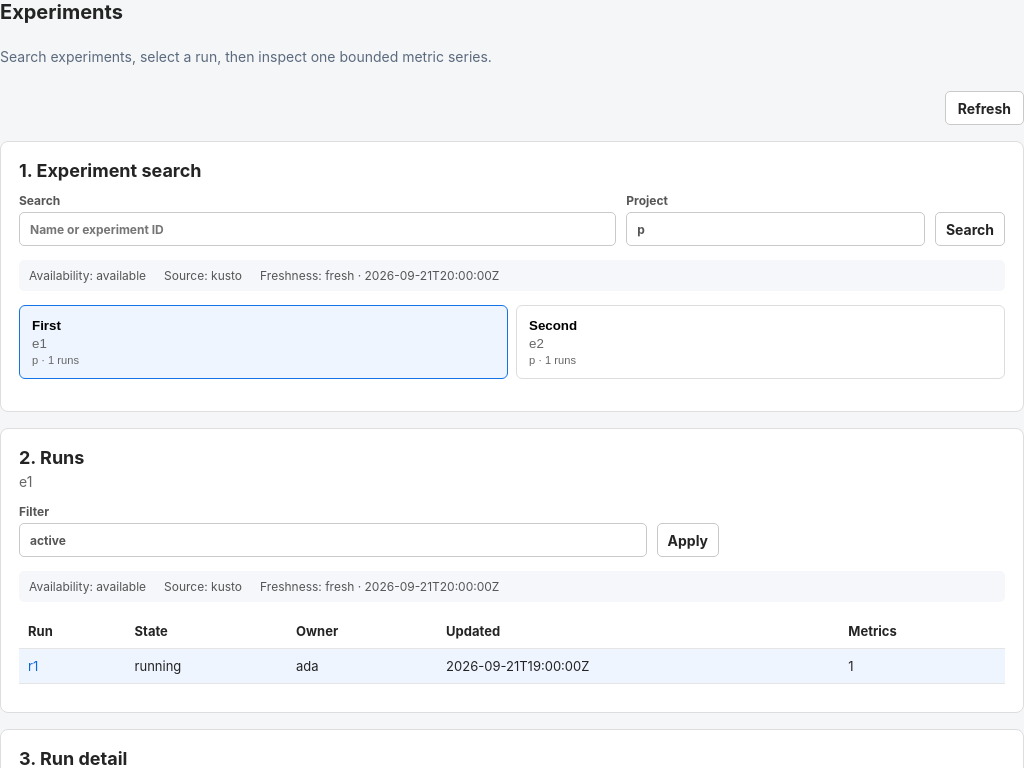
Test: typed experiment dashboard › honors deep-linked filters and bounded series controls
Step 1. Click the button "Second e2 p · 1 runs" → [553, 326], box x1=516 y1=305 x2=1005 y2=379
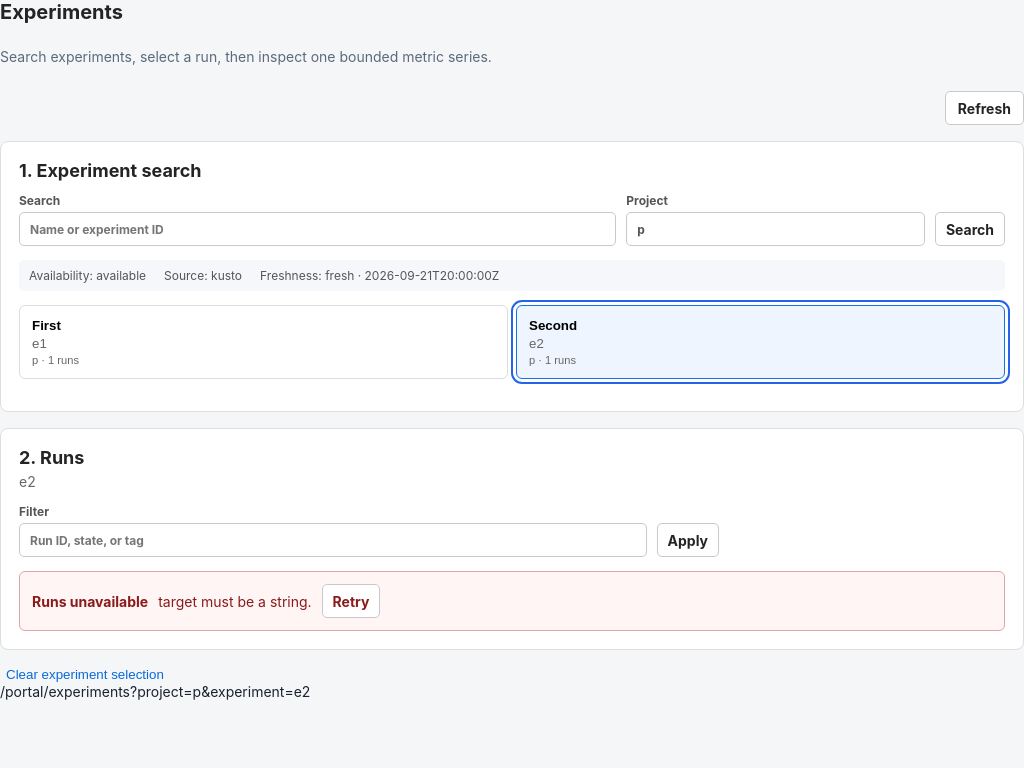
Expected: the text named "location" shows "experiment=e2", x1=0 y1=683 x2=310 y2=700
